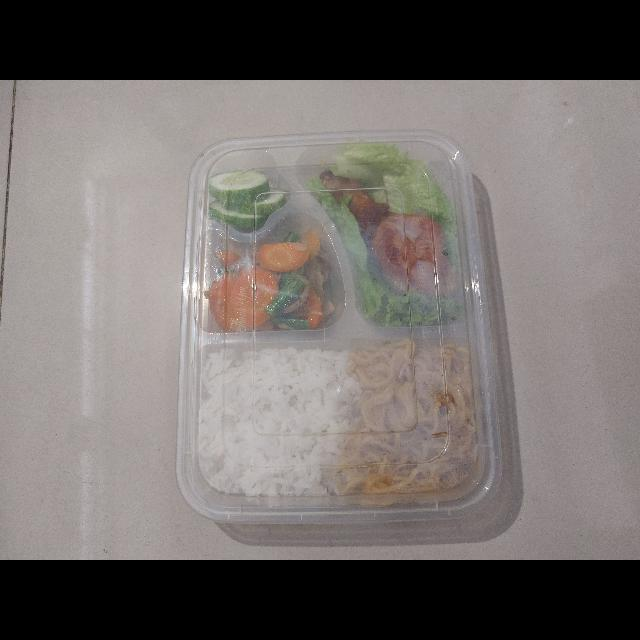bento: (181, 128, 501, 523)
